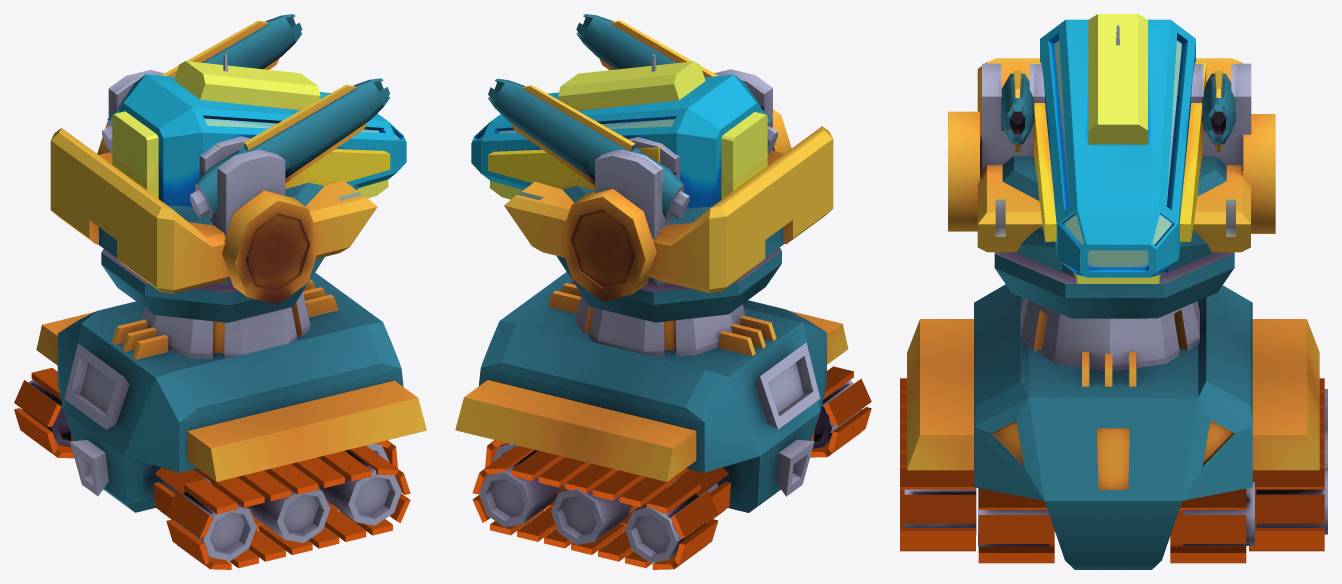
Rendered from Player_Idle_2_Upgrade14.obj.
The picture shows the model from 3 angles, left to right: view 1: azimuth 30°, elevation 25°; view 2: azimuth 150°, elevation 25°; view 3: azimuth 270°, elevation 25°; orthographic projection. The views are drawn at different scales.
Parts seen in each view (by area): view 1: Object008, Box020, Object014, Box018, Box019, Box017; view 2: Object008, Object014, Box019, Box018, Box020, Box016; view 3: Object008, Box020, Box019, Box017, Box016, Object014, Box018, Box009.
Part boxes in pixels (x1,y1,x2,y2): Object008: (36, 61, 426, 512); Box020: (166, 445, 410, 569); Object014: (102, 14, 389, 219); Box018: (22, 379, 401, 560); Box019: (14, 368, 74, 458); Box017: (153, 440, 397, 529); Object008: (455, 61, 848, 512); Object014: (488, 14, 777, 220); Box019: (472, 446, 718, 569); Box018: (479, 380, 862, 562); Box020: (810, 366, 871, 457); Box016: (485, 440, 730, 527); Object008: (907, 14, 1319, 569); Box020: (900, 378, 975, 551); Box019: (1249, 378, 1324, 551); Box017: (978, 488, 1054, 563); Box016: (1170, 488, 1246, 563); Object014: (1001, 70, 1235, 151); Box018: (904, 389, 1327, 534); Box009: (978, 482, 1254, 546).
Size of the model in its own units: 65.77 by 85.79 by 68.55.
5 materials, 3 textured.
